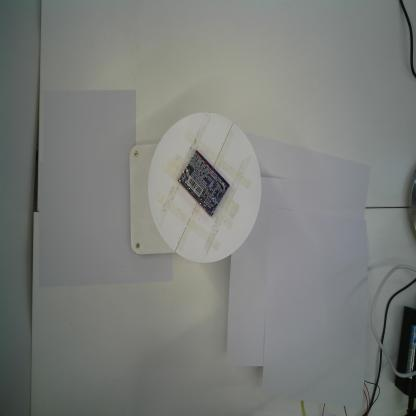Gum: (177, 150, 231, 218)
